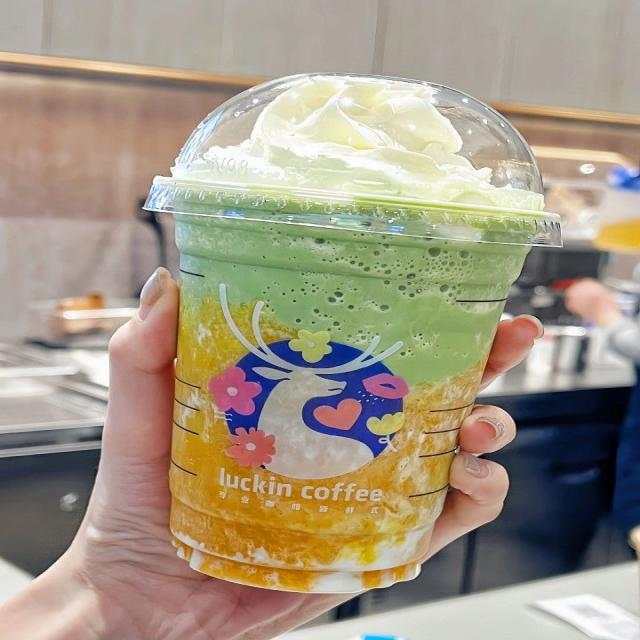plastic cup: (142, 72, 563, 594)
